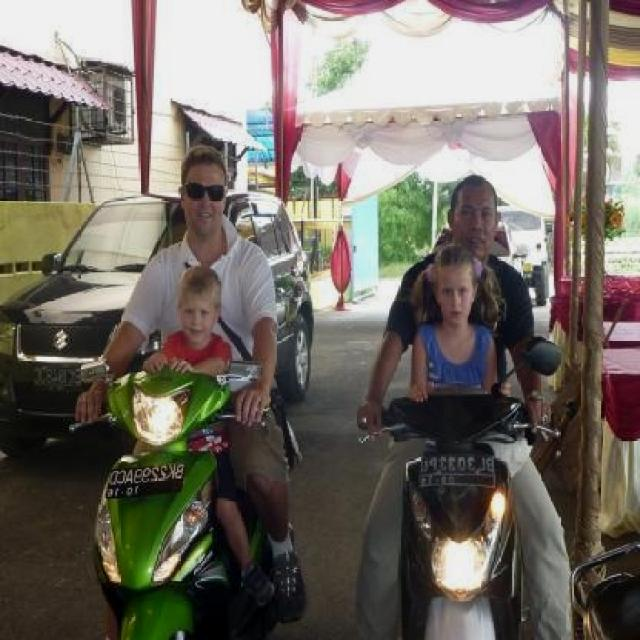Car: (0, 145, 327, 455)
Cycle: (65, 358, 304, 640), (337, 393, 561, 640)
